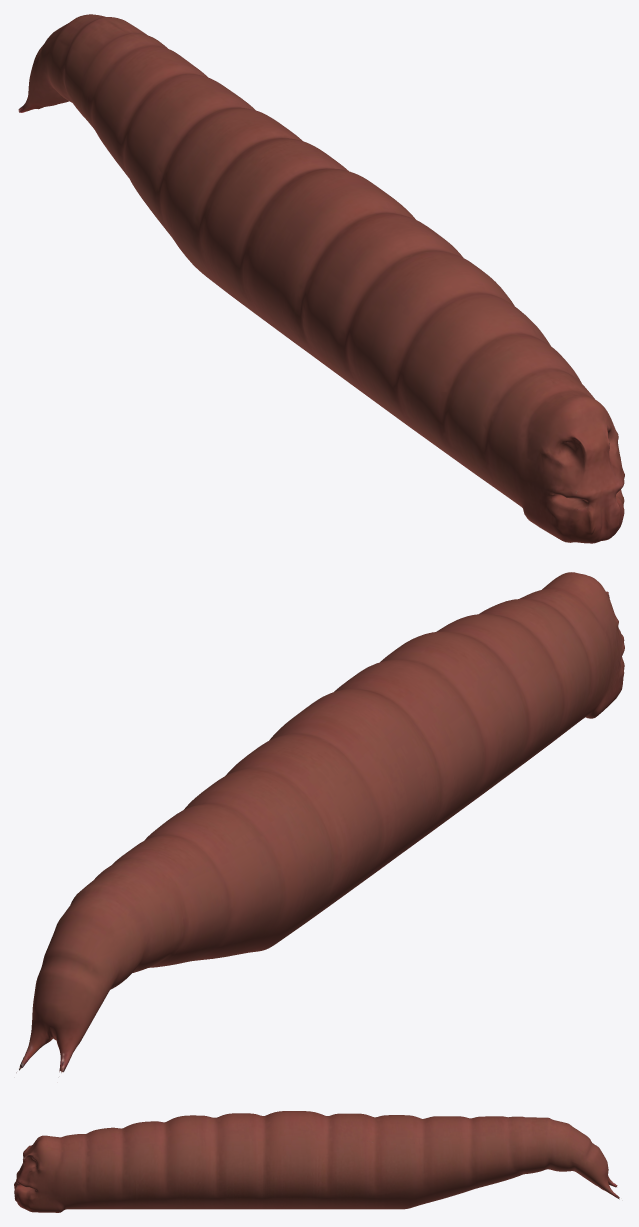
Rendered from vet_v2_parasite_roundworm.glb.
3 views of the same model, one above another, from view 1: azimuth 30°, elevation 25°; view 2: azimuth 150°, elevation 25°; view 3: azimuth 270°, elevation 25° (orthographic). The views are drawn at different scales.
Parts seen in each view (by area): view 1: model; view 2: model; view 3: model.
Part boxes in pixels (x1=…): model: x1=18, y1=14, x2=624, y2=543; model: x1=16, y1=572, x2=624, y2=1072; model: x1=14, y1=1111, x2=619, y2=1212.
Bounding box in the file's own units: 0.2804 × 0.3129 × 1.89.
Materials: 1 (1 with a texture image).
